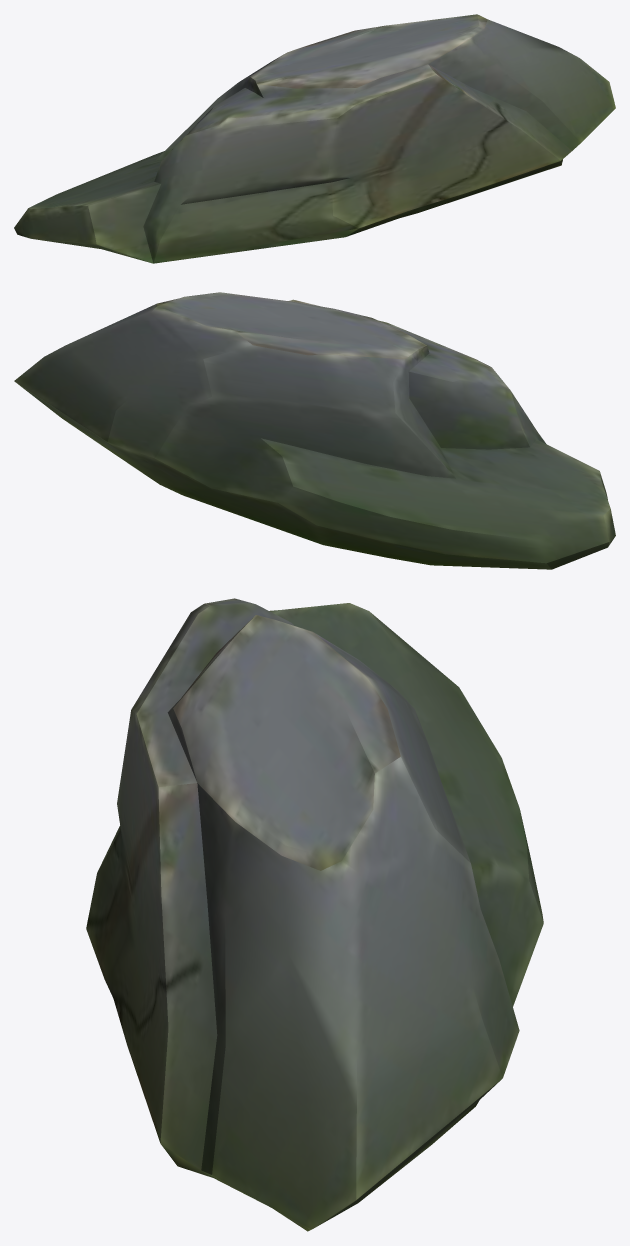
Rendered from rocha-crista.glb.
The picture shows the model from 3 angles, top to bottom: view 1: azimuth 30°, elevation 25°; view 2: azimuth 150°, elevation 25°; view 3: azimuth 270°, elevation 25°; orthographic projection. The views are drawn at different scales.
Size of the model in its own units: 7.1 by 1.85 by 2.39.
1 material, 1 textured.
